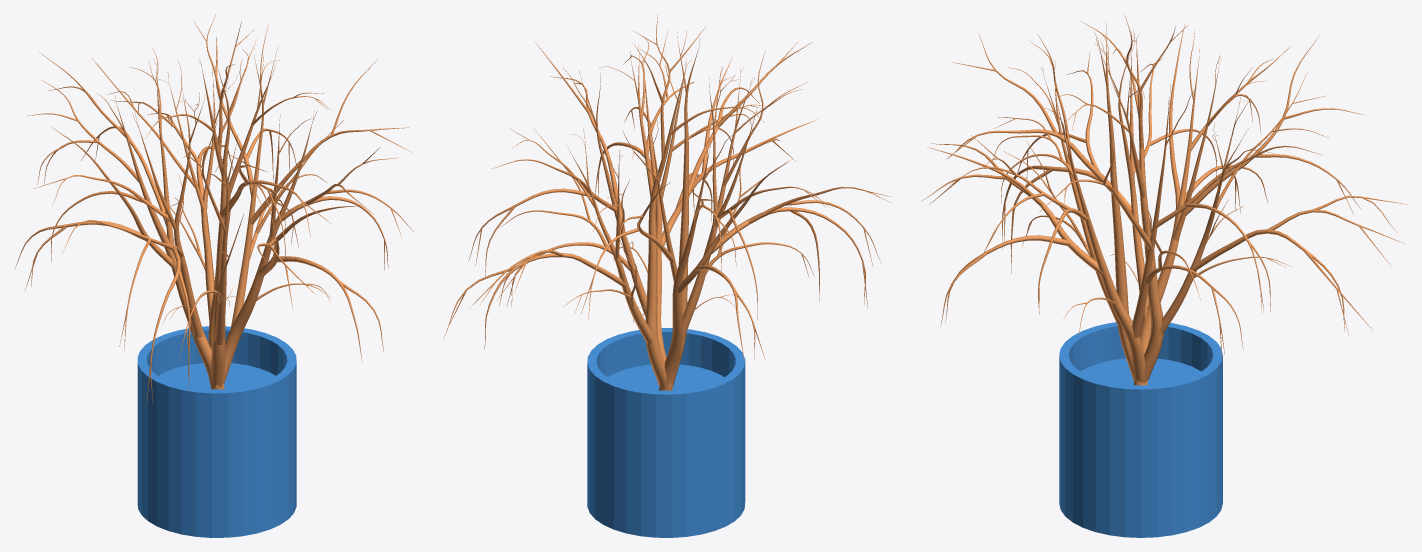
Rendered from pflanze.fbx.
The picture shows the model from 3 angles, left to right: view 1: azimuth 30°, elevation 25°; view 2: azimuth 150°, elevation 25°; view 3: azimuth 270°, elevation 25°; orthographic projection. The views are drawn at different scales.
Parts seen in each view (by area): view 1: Cylinder, tree; view 2: Cylinder, tree; view 3: Cylinder, tree.
Part boxes in pixels (x1,y1,x2,y2): Cylinder: (137,326,296,537); tree: (14,14,414,403); Cylinder: (587,328,745,537); tree: (443,14,891,390); Cylinder: (1059,320,1222,537); tree: (921,14,1407,385).
Bounding box in the file's own units: 518 × 671 × 595.
